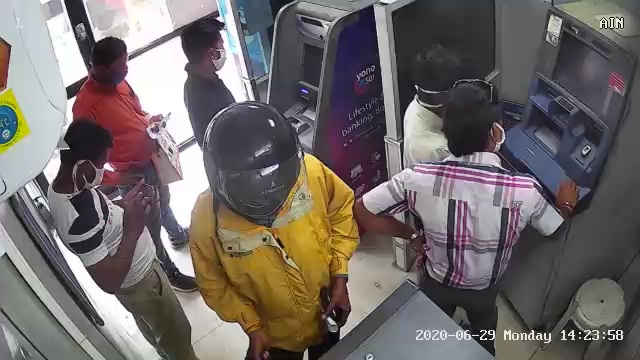helmet: (191, 96, 312, 221)
